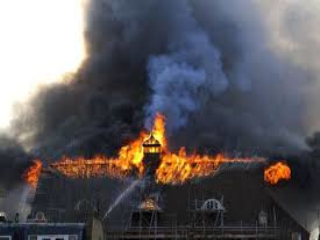fire: (36, 114, 289, 190)
smoke: (59, 6, 307, 115)
